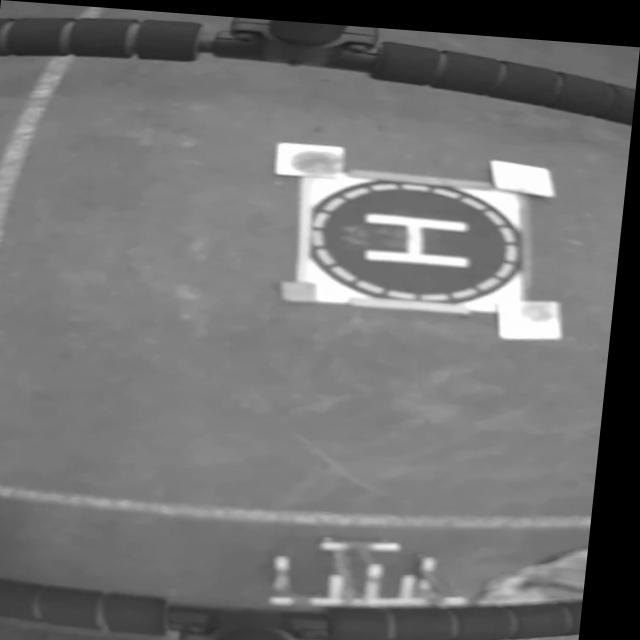Helipad: (366, 206, 474, 261)
